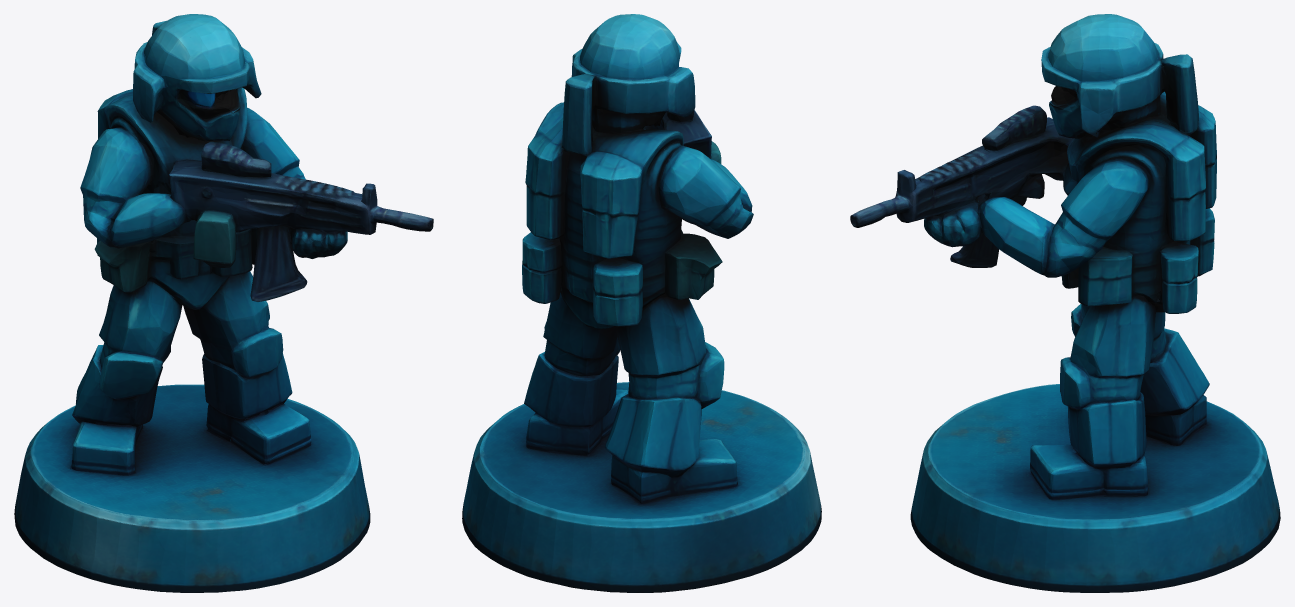
File: player-rifle.glb
The picture shows the model from 3 angles, left to right: view 1: azimuth 30°, elevation 25°; view 2: azimuth 150°, elevation 25°; view 3: azimuth 270°, elevation 25°; orthographic projection.
Parts seen in each view (by area): view 1: world; view 2: world; view 3: world.
Boxes of the visible parts, bbox=[...] form: world: bbox=[14, 14, 433, 592]; world: bbox=[462, 14, 821, 592]; world: bbox=[850, 14, 1280, 592].
Size of the model in its own units: 0.6536 by 1 by 0.779.
1 material, 1 textured.
